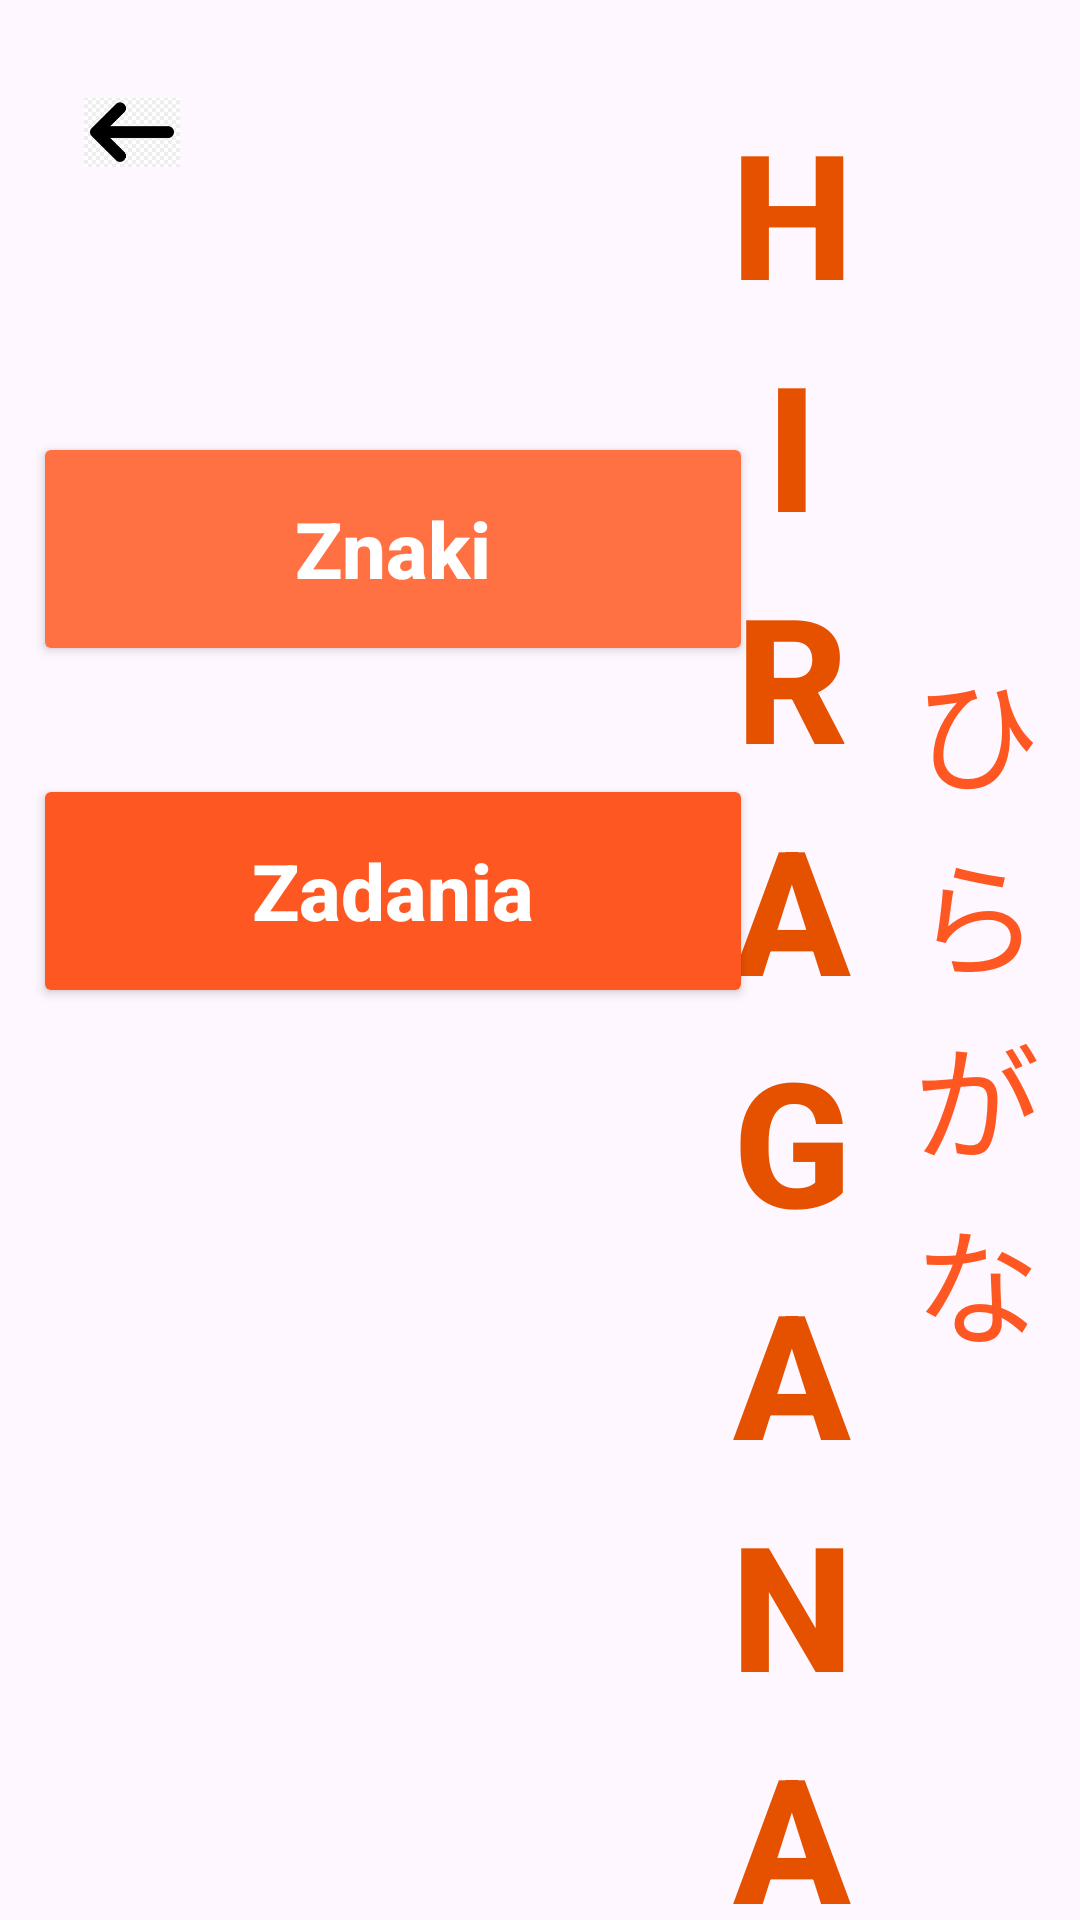

Point at icon controls on the screen. Image size 1080 × 1920, points as (x=x, y=y).
Powrót: (x=132, y=132)
